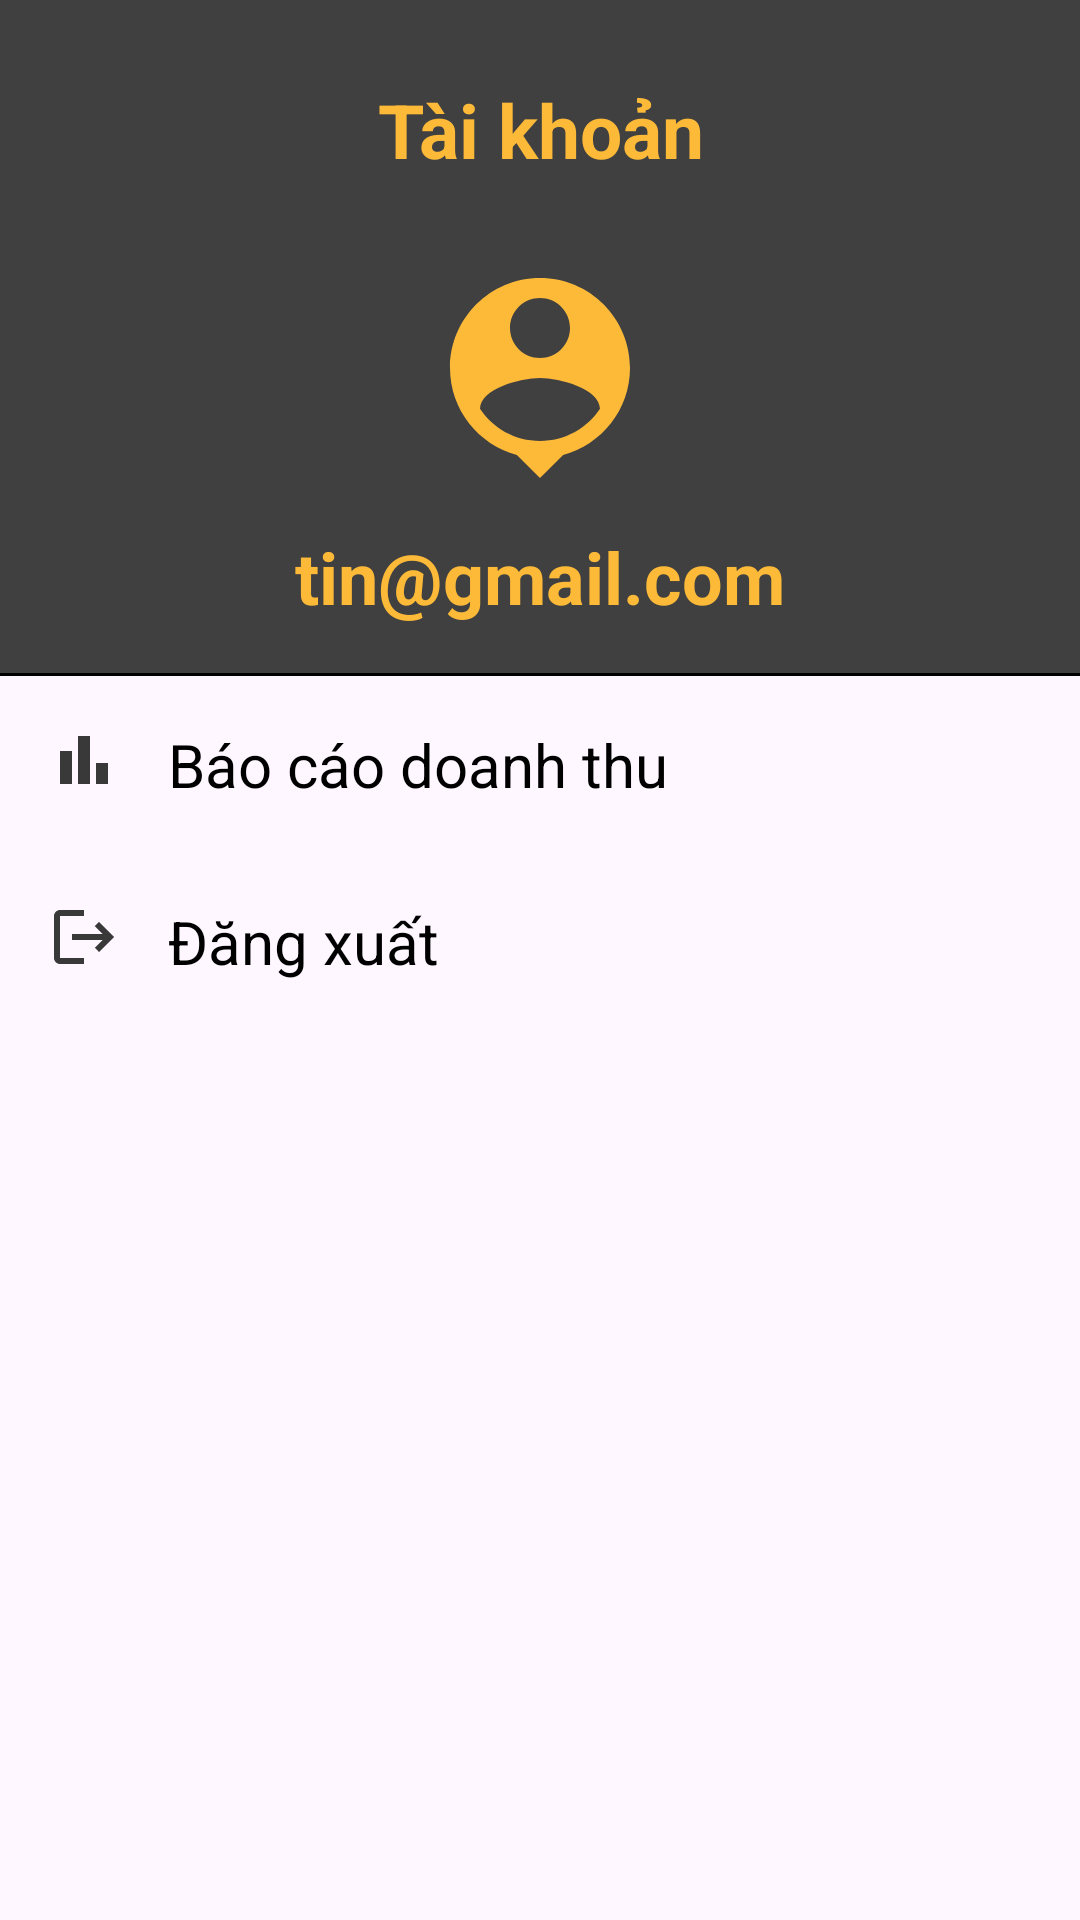

Icons on this 1080×1920 Android screen, each with the point to tap as point (x, y):
bar chart: point (84, 760)
person pin: point (540, 378)
